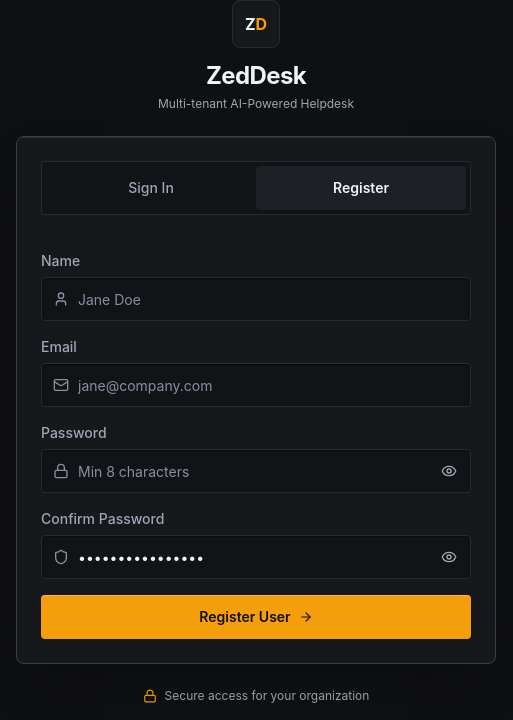
Scenario: AuthCard Component › toggles confirm password visibility in registration form
Note: The second toggle button is for confirm password
Step 1. Click the 2nd button named "show password" → (449, 557), box [427, 535, 471, 579]
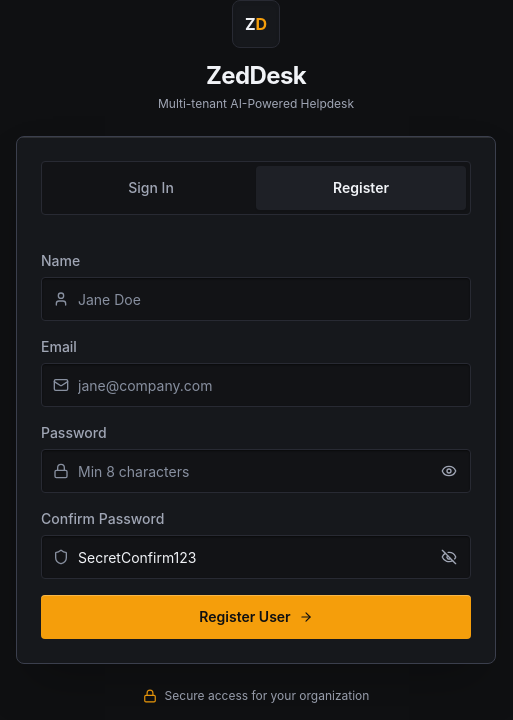
Check: the field labelled "Confirm Password" shows its text, box [41, 535, 471, 579]
